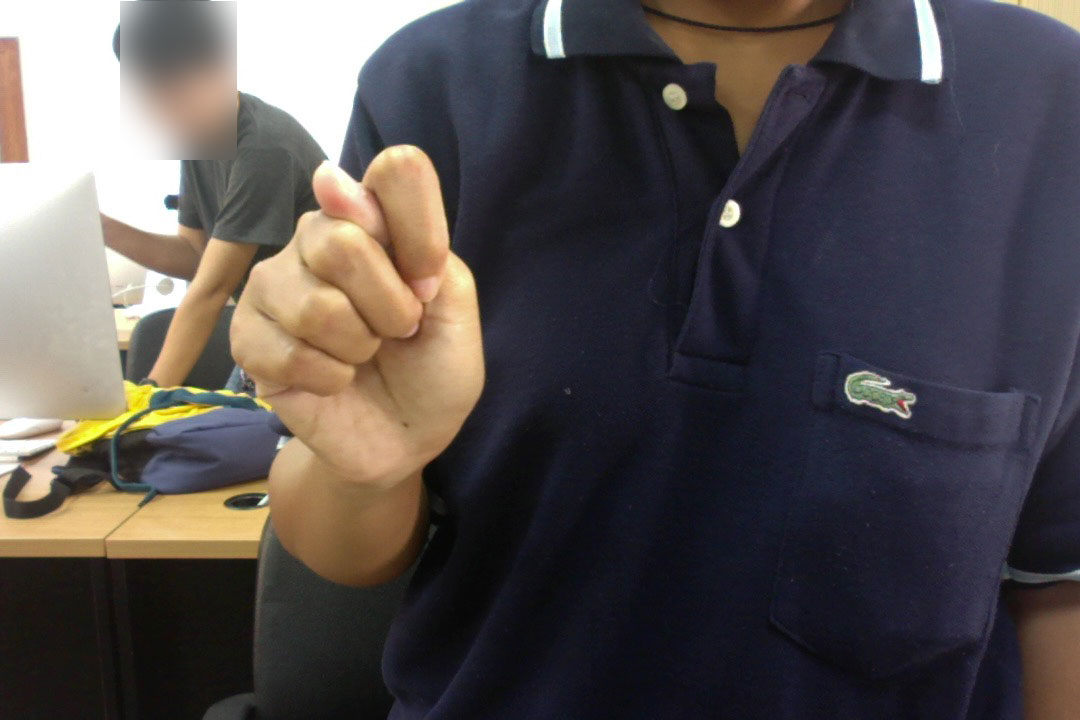tor: (224, 137, 492, 504)
